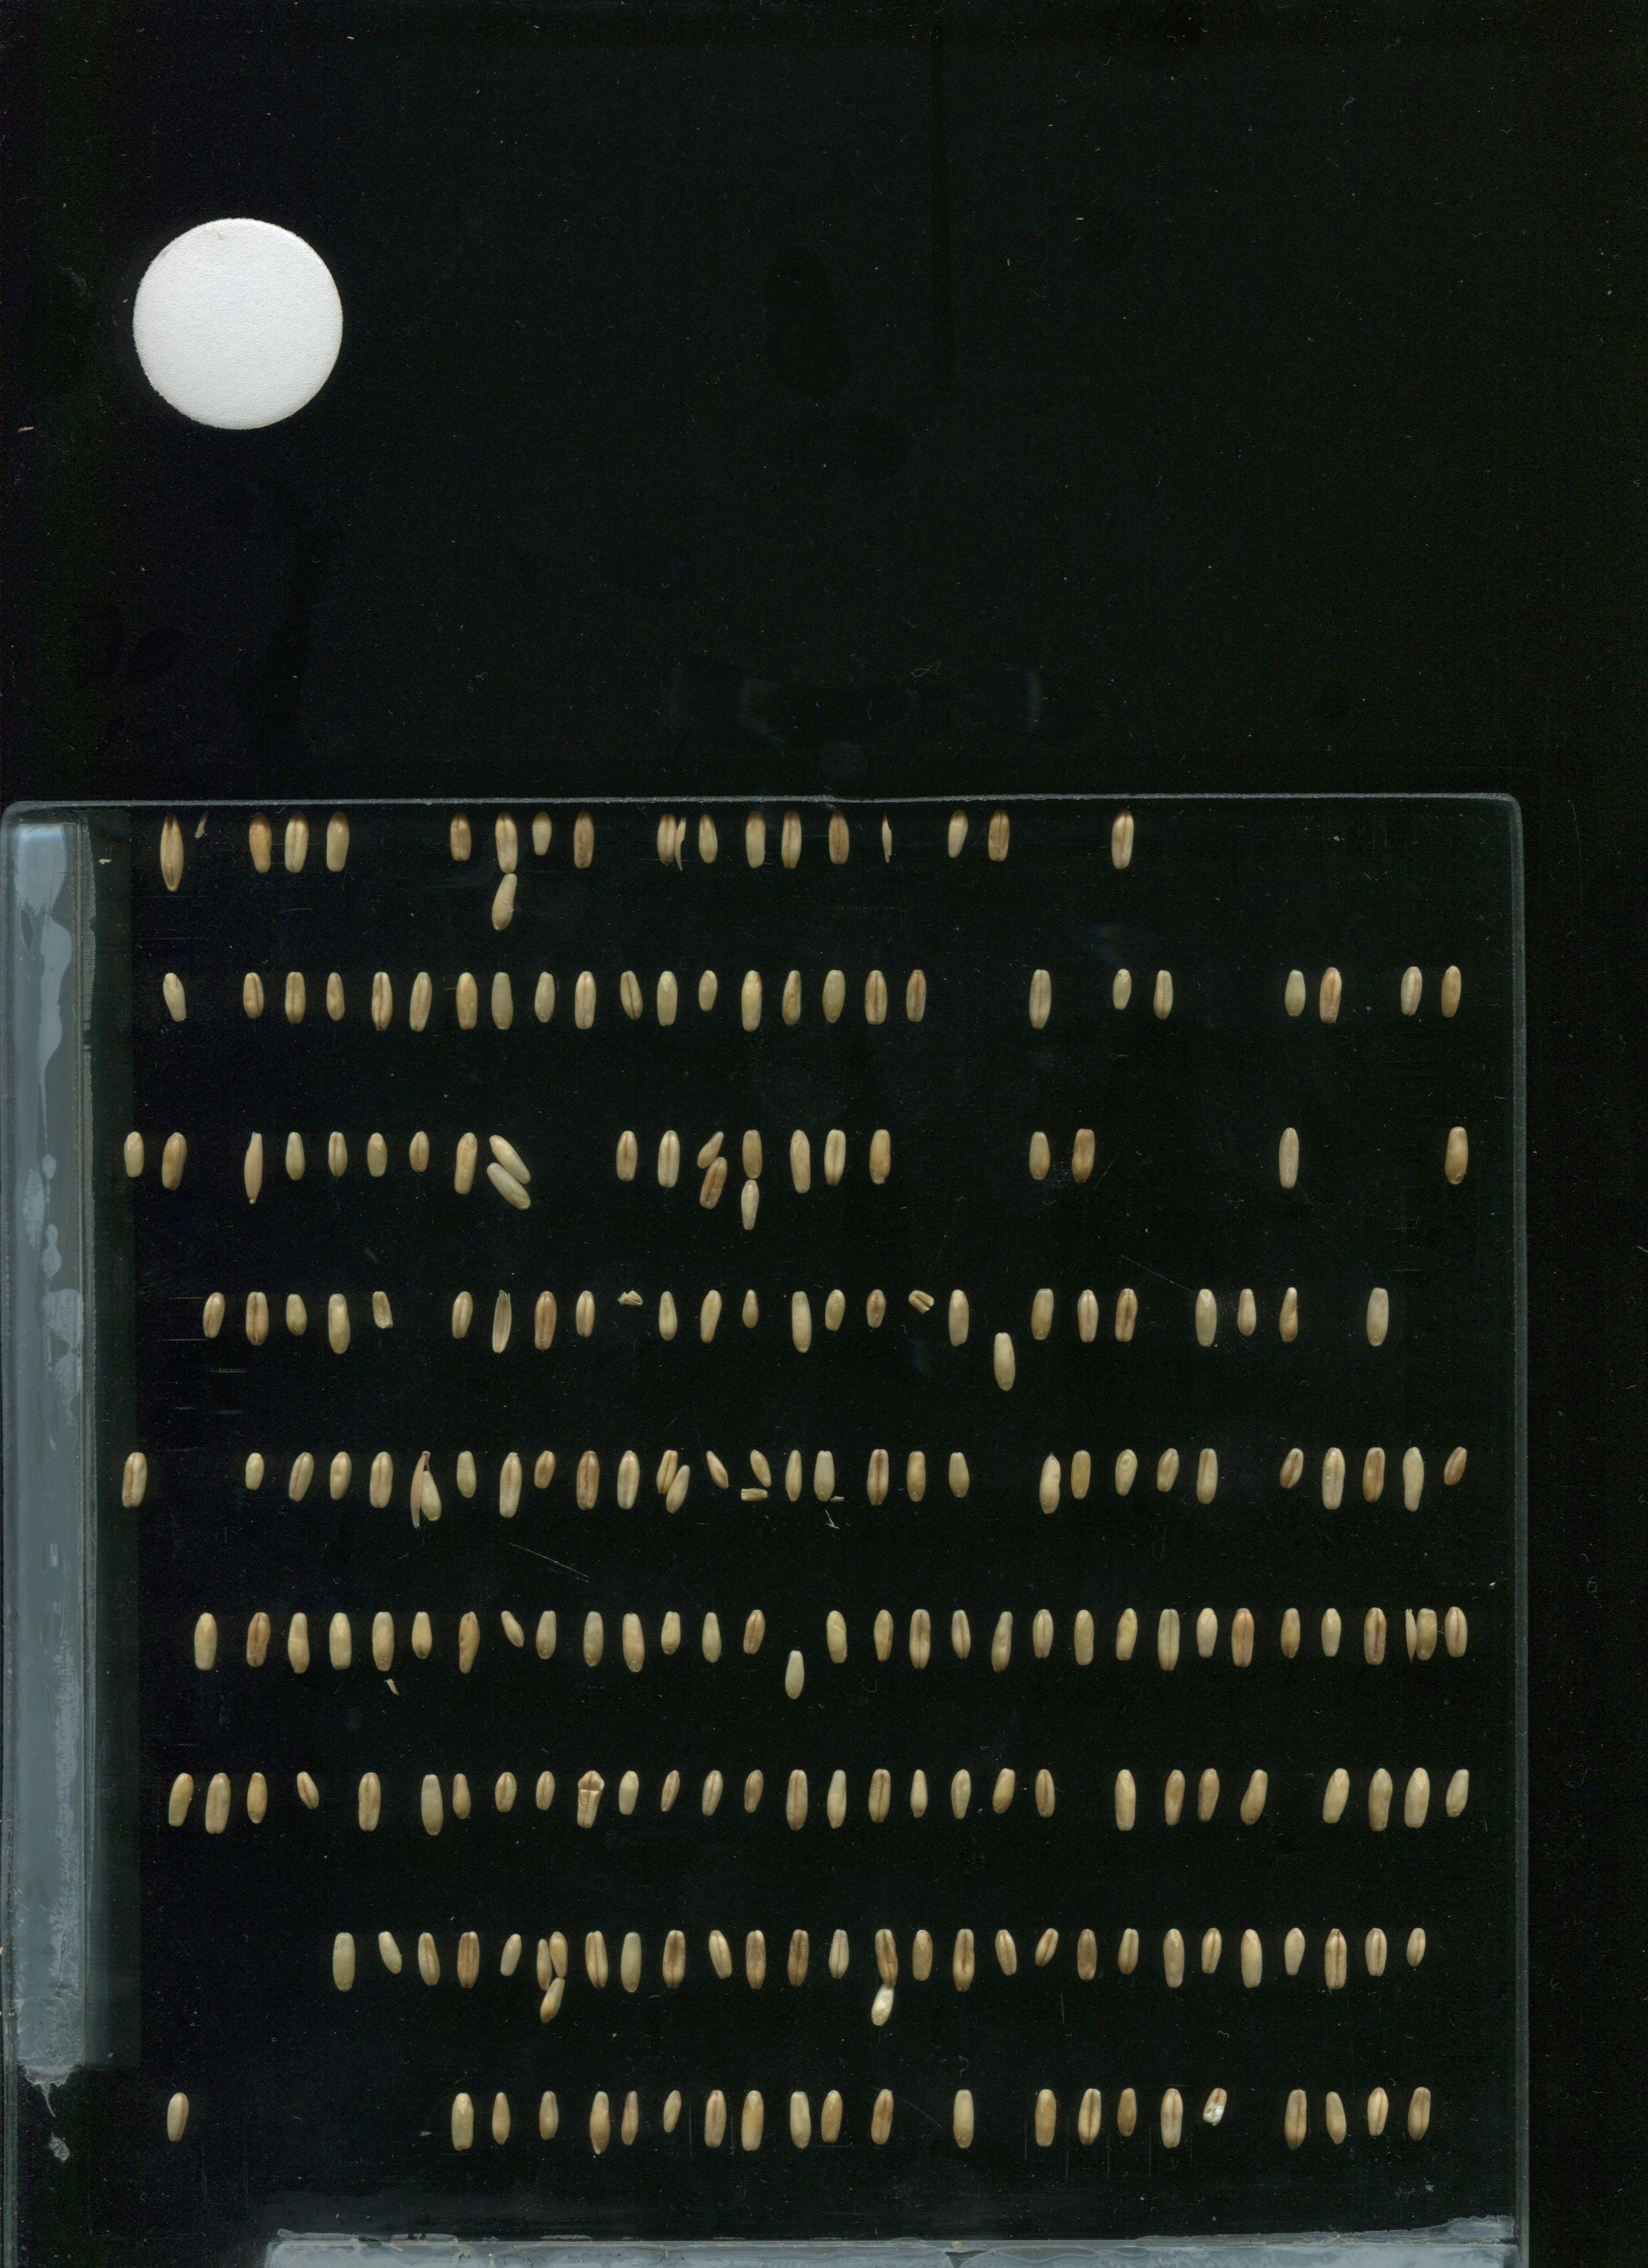BrokenGrain: (1400, 1599, 1417, 1668), (877, 812, 898, 863), (907, 1285, 937, 1317), (614, 1284, 644, 1310), (739, 1486, 768, 1507)
NakedGrain: (366, 1608, 401, 1678), (449, 1608, 484, 1678), (1438, 1599, 1474, 1669), (1400, 1764, 1435, 1835), (583, 2085, 618, 2155), (238, 1130, 269, 1208), (442, 805, 477, 873), (614, 963, 650, 1032), (857, 961, 893, 1030), (486, 1160, 532, 1213), (116, 1446, 151, 1514), (1273, 1602, 1308, 1671), (1190, 1444, 1225, 1513), (1363, 1766, 1398, 1835), (442, 2087, 477, 2155), (813, 2083, 849, 2152), (1234, 1925, 1269, 1993), (410, 1925, 445, 1993), (276, 806, 310, 877), (489, 806, 523, 877), (486, 868, 519, 939), (646, 803, 680, 873), (822, 803, 856, 873), (157, 958, 190, 1028), (1104, 805, 1137, 875), (276, 963, 310, 1034), (403, 967, 437, 1037), (569, 967, 602, 1037), (738, 967, 771, 1037), (898, 960, 931, 1030), (1278, 960, 1312, 1030), (1431, 956, 1465, 1027), (1438, 1120, 1472, 1190), (1271, 1123, 1305, 1194), (1361, 1282, 1394, 1352), (1188, 1282, 1222, 1352), (364, 1444, 398, 1514), (611, 1446, 644, 1516), (900, 1442, 933, 1513), (280, 1608, 313, 1678), (1319, 1444, 1352, 1514), (199, 1770, 232, 1840), (238, 1764, 271, 1835), (822, 1764, 856, 1835), (861, 1763, 894, 1833), (1192, 1763, 1225, 1833), (1321, 1763, 1354, 1833), (618, 2085, 651, 2155), (1160, 1925, 1194, 1995), (452, 1925, 486, 1995), (243, 808, 276, 877), (319, 806, 352, 875), (567, 806, 600, 875), (690, 801, 724, 870), (739, 803, 773, 872), (776, 803, 810, 872), (982, 803, 1016, 872), (234, 961, 268, 1030), (317, 963, 350, 1032), (364, 967, 398, 1035), (449, 968, 482, 1037), (486, 967, 519, 1035), (528, 967, 562, 1035), (648, 967, 681, 1035), (776, 967, 810, 1035), (819, 963, 852, 1032), (1023, 961, 1056, 1030), (1146, 961, 1180, 1030), (1312, 960, 1345, 1028), (1393, 958, 1426, 1027), (1067, 1125, 1100, 1194), (864, 1123, 898, 1192), (819, 1123, 852, 1192), (785, 1129, 819, 1197), (157, 1127, 190, 1196), (447, 1129, 481, 1197), (651, 1127, 685, 1196), (1025, 1122, 1058, 1190), (611, 1122, 644, 1190), (990, 1328, 1023, 1396), (942, 1285, 975, 1354), (1025, 1282, 1058, 1351), (1070, 1280, 1104, 1349), (1107, 1282, 1141, 1351), (785, 1289, 819, 1358), (692, 1282, 725, 1351), (653, 1284, 687, 1352), (528, 1285, 562, 1354), (486, 1291, 519, 1359), (322, 1291, 356, 1359), (239, 1287, 273, 1356), (285, 1446, 319, 1514), (493, 1451, 526, 1520), (572, 1447, 606, 1516), (776, 1442, 810, 1511), (859, 1444, 893, 1513), (812, 1442, 845, 1511), (1034, 1449, 1067, 1518), (1065, 1442, 1099, 1511), (187, 1608, 220, 1676), (239, 1606, 273, 1675), (322, 1608, 356, 1676), (614, 1609, 648, 1678), (903, 1606, 937, 1675), (984, 1609, 1018, 1678), (1151, 1608, 1185, 1676), (1188, 1604, 1222, 1673), (1225, 1599, 1259, 1668), (1313, 1599, 1347, 1668), (1359, 1602, 1393, 1671), (1396, 1444, 1430, 1513), (166, 1766, 199, 1835), (350, 1768, 384, 1837), (416, 1771, 449, 1840), (572, 1768, 606, 1837), (780, 1766, 813, 1835), (1109, 1766, 1143, 1835), (1155, 1764, 1188, 1833), (1236, 1763, 1269, 1831), (1440, 1764, 1474, 1833), (944, 1601, 977, 1669), (327, 1928, 361, 1997), (160, 2085, 194, 2154), (532, 2081, 565, 2150), (486, 2085, 519, 2154), (699, 2085, 732, 2154), (736, 2085, 769, 2154), (784, 2083, 817, 2152), (864, 2083, 898, 2152), (947, 2085, 981, 2154), (1030, 2083, 1063, 2152), (1072, 2083, 1106, 2152), (1155, 2085, 1188, 2154), (1275, 2083, 1308, 2152), (1321, 2083, 1354, 2152), (1359, 2081, 1393, 2150), (1403, 2080, 1437, 2148), (1317, 1928, 1350, 1997), (1072, 1919, 1106, 1988), (949, 1925, 982, 1993), (907, 1921, 940, 1990), (822, 1919, 856, 1988), (784, 1923, 817, 1992), (739, 1925, 773, 1993), (657, 1923, 690, 1992), (613, 1928, 646, 1997), (578, 1926, 611, 1995), (488, 1132, 530, 1183), (1069, 1606, 1099, 1673), (1028, 1602, 1058, 1669), (739, 1599, 769, 1666), (655, 1601, 685, 1668), (868, 1602, 898, 1668), (820, 1604, 850, 1669), (780, 1643, 810, 1708), (695, 1608, 725, 1673), (1357, 1446, 1389, 1506), (1111, 1604, 1143, 1664), (581, 1608, 609, 1675), (532, 1604, 560, 1669), (372, 1930, 408, 1979), (525, 803, 556, 859), (940, 806, 972, 863), (873, 1923, 900, 1990), (533, 1977, 570, 2025), (697, 1155, 727, 1213), (324, 1446, 354, 1504), (905, 1764, 935, 1823), (1275, 1287, 1303, 1347), (451, 1446, 481, 1502), (407, 1611, 437, 1668), (1030, 1766, 1060, 1823), (449, 1770, 479, 1826), (1106, 965, 1137, 1018), (738, 1127, 769, 1180), (734, 1178, 766, 1231), (324, 1129, 356, 1182), (734, 1284, 766, 1337), (1231, 1287, 1262, 1340), (701, 1446, 732, 1499), (1151, 1446, 1183, 1499), (1113, 2085, 1141, 2143), (1402, 1919, 1430, 1977), (991, 1926, 1019, 1984), (706, 1926, 734, 1984), (1113, 1925, 1143, 1979), (1196, 1925, 1225, 1979), (1201, 2078, 1231, 2132), (692, 967, 724, 1018), (403, 1129, 435, 1180), (361, 1130, 393, 1182), (280, 1130, 312, 1182), (116, 1129, 148, 1180), (1109, 1447, 1141, 1499), (944, 1451, 975, 1502), (530, 1444, 562, 1495), (239, 1446, 271, 1497), (197, 1291, 229, 1342), (283, 1291, 315, 1342), (366, 1285, 398, 1337), (447, 1291, 479, 1342), (572, 1289, 604, 1340), (819, 1285, 850, 1337), (857, 1284, 889, 1335), (745, 1440, 776, 1491), (1275, 1447, 1306, 1499), (1437, 1442, 1468, 1493), (990, 1766, 1018, 1823), (944, 1766, 972, 1823), (1363, 1926, 1393, 1979), (870, 1977, 900, 2030), (548, 1921, 572, 1984), (1280, 1925, 1308, 1979), (532, 1932, 555, 1999), (292, 1768, 324, 1815), (1030, 1925, 1062, 1972), (664, 1460, 690, 1516), (498, 1606, 528, 1653), (532, 1768, 562, 1815), (495, 1932, 525, 1979), (489, 1770, 519, 1815), (616, 1770, 643, 1819), (657, 1768, 683, 1817), (739, 1766, 766, 1815), (695, 1129, 729, 1167), (653, 1444, 678, 1495), (697, 1768, 724, 1815)
WholeGrain: (403, 1444, 444, 1532), (155, 812, 187, 895)
